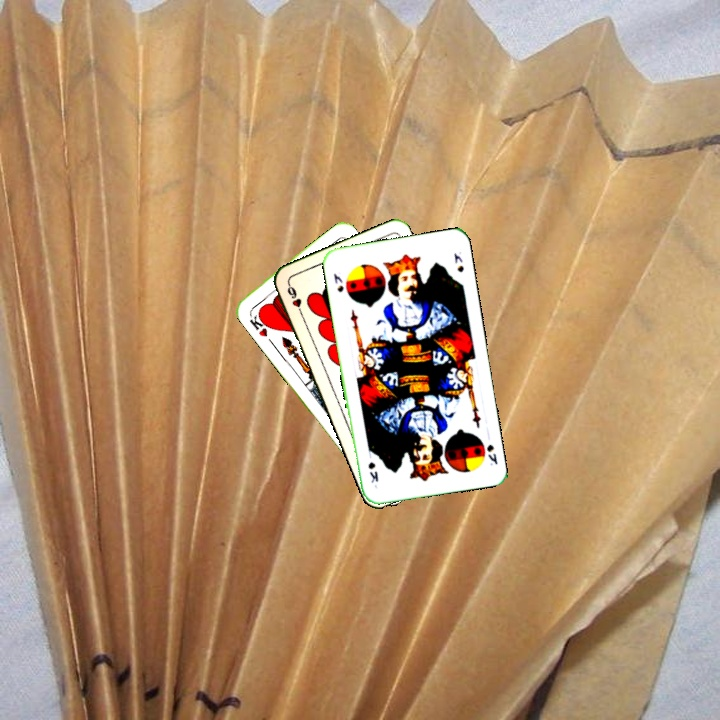H9: (283, 280, 306, 319)
HK: (245, 308, 273, 339)
SK: (483, 440, 500, 468), (330, 269, 346, 295)
